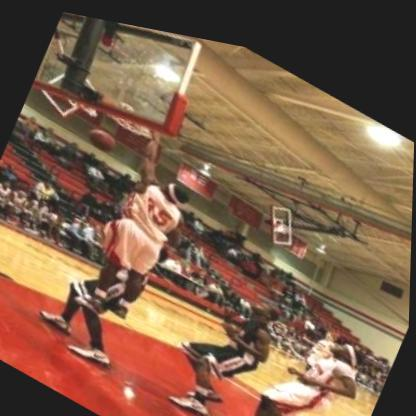basketball: (83, 114, 123, 161)
